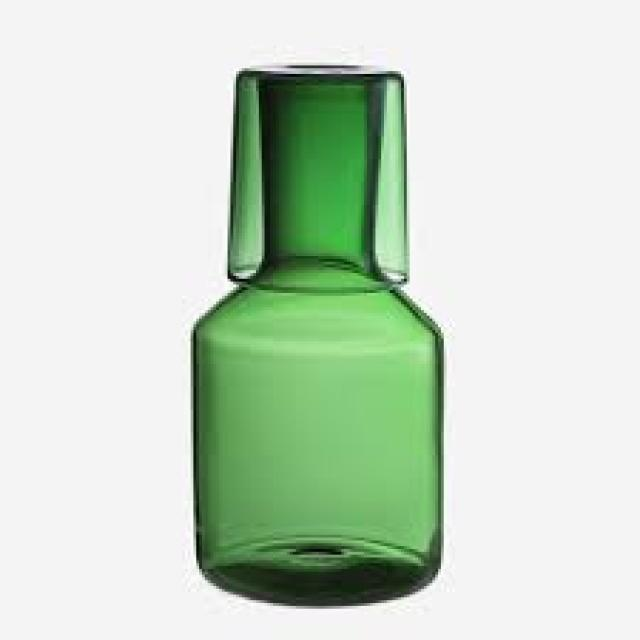glass: (190, 63, 441, 603)
